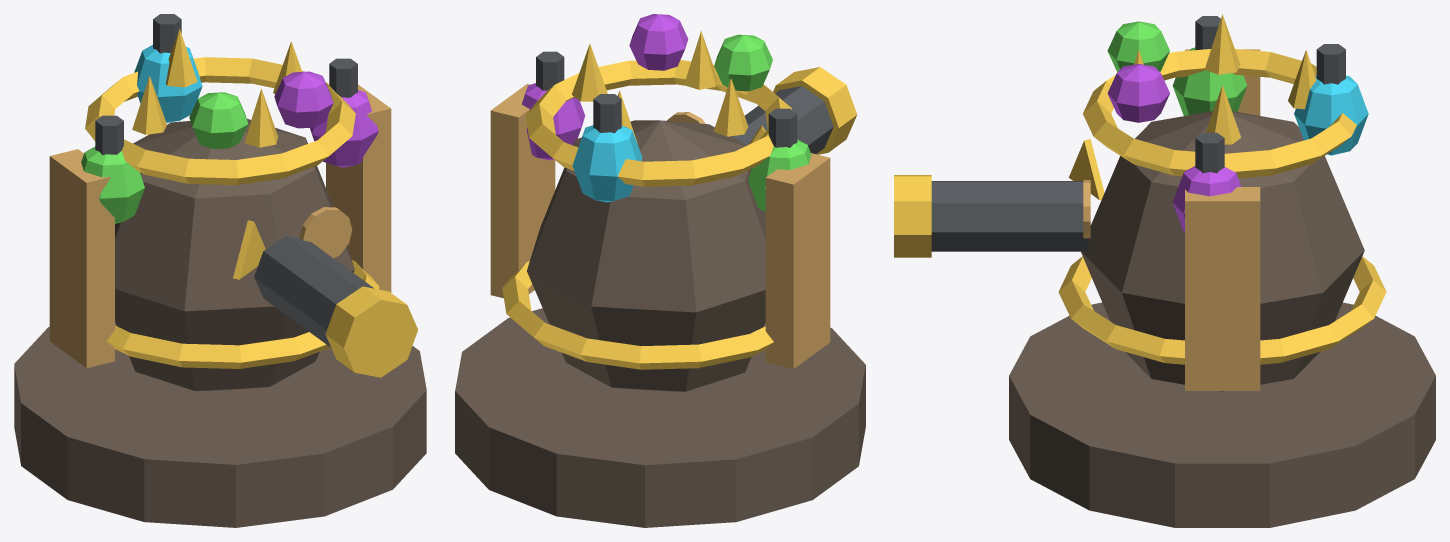
Rendered from TD_AlchemistTower_T3.fbx.
3 renders of one model, left to right at view 1: azimuth 30°, elevation 25°; view 2: azimuth 150°, elevation 25°; view 3: azimuth 270°, elevation 25°, orthographic. The views are drawn at different scales.
Visible parts, largest first — view 1: TD_AlchemistTower_T3_Base, TD_AlchemistTower_T3_MasterReactor, TD_AlchemistTower_T3_BrassSideFrame_Left, TD_AlchemistTower_T3_GoldTopCrownRing, TD_AlchemistTower_T3_BrassSideFrame_Right, TD_AlchemistTower_T3_Nozzle, TD_AlchemistTower_T3_Nozzle_GoldTip, TD_AlchemistTower_T3_GoldLowerFrame, TD_AlchemistTower_T3_Potion_Green_01_Body, TD_AlchemistTower_T3_Potion_Purple_TopOrb, TD_AlchemistTower_T3_Potion_Green_TopOrb, TD_AlchemistTower_T3_Potion_Blue_01_Body (+10 smaller); view 2: TD_AlchemistTower_T3_Base, TD_AlchemistTower_T3_MasterReactor, TD_AlchemistTower_T3_BrassSideFrame_Left, TD_AlchemistTower_T3_GoldTopCrownRing, TD_AlchemistTower_T3_BrassSideFrame_Right, TD_AlchemistTower_T3_GoldLowerFrame, TD_AlchemistTower_T3_Potion_Blue_01_Body, TD_AlchemistTower_T3_Nozzle, TD_AlchemistTower_T3_Nozzle_GoldTip, TD_AlchemistTower_T3_Potion_Purple_TopOrb, TD_AlchemistTower_T3_Potion_Green_TopOrb, TD_AlchemistTower_T3_Potion_Purple_01_Body (+7 smaller); view 3: TD_AlchemistTower_T3_Base, TD_AlchemistTower_T3_MasterReactor, TD_AlchemistTower_T3_BrassSideFrame_Right, TD_AlchemistTower_T3_Nozzle, TD_AlchemistTower_T3_GoldTopCrownRing, TD_AlchemistTower_T3_GoldLowerFrame, TD_AlchemistTower_T3_Potion_Blue_01_Body, TD_AlchemistTower_T3_Nozzle_GoldTip, TD_AlchemistTower_T3_Potion_Purple_TopOrb, TD_AlchemistTower_T3_Potion_Green_01_Body, TD_AlchemistTower_T3_Potion_Green_TopOrb, TD_AlchemistTower_T3_Potion_Purple_01_Body (+8 smaller).
Part boxes in pixels (bbox=[...]): TD_AlchemistTower_T3_Base: bbox=[14, 322, 426, 527]; TD_AlchemistTower_T3_MasterReactor: bbox=[115, 118, 354, 390]; TD_AlchemistTower_T3_BrassSideFrame_Left: bbox=[49, 149, 114, 368]; TD_AlchemistTower_T3_GoldTopCrownRing: bbox=[85, 57, 355, 185]; TD_AlchemistTower_T3_BrassSideFrame_Right: bbox=[326, 84, 391, 292]; TD_AlchemistTower_T3_Nozzle: bbox=[254, 236, 374, 347]; TD_AlchemistTower_T3_Nozzle_GoldTip: bbox=[325, 286, 417, 377]; TD_AlchemistTower_T3_GoldLowerFrame: bbox=[106, 260, 379, 368]; TD_AlchemistTower_T3_Potion_Green_01_Body: bbox=[81, 146, 144, 223]; TD_AlchemistTower_T3_Potion_Purple_TopOrb: bbox=[274, 71, 333, 128]; TD_AlchemistTower_T3_Potion_Green_TopOrb: bbox=[189, 92, 248, 149]; TD_AlchemistTower_T3_Potion_Blue_01_Body: bbox=[134, 45, 202, 122]; TD_AlchemistTower_T3_Base: bbox=[455, 308, 865, 527]; TD_AlchemistTower_T3_MasterReactor: bbox=[527, 120, 765, 391]; TD_AlchemistTower_T3_BrassSideFrame_Left: bbox=[765, 153, 830, 368]; TD_AlchemistTower_T3_GoldTopCrownRing: bbox=[525, 60, 791, 186]; TD_AlchemistTower_T3_BrassSideFrame_Right: bbox=[490, 84, 555, 298]; TD_AlchemistTower_T3_GoldLowerFrame: bbox=[502, 261, 773, 369]; TD_AlchemistTower_T3_Potion_Blue_01_Body: bbox=[572, 125, 642, 202]; TD_AlchemistTower_T3_Nozzle: bbox=[732, 86, 833, 153]; TD_AlchemistTower_T3_Nozzle_GoldTip: bbox=[773, 67, 857, 154]; TD_AlchemistTower_T3_Potion_Purple_TopOrb: bbox=[629, 14, 688, 70]; TD_AlchemistTower_T3_Potion_Green_TopOrb: bbox=[714, 34, 772, 91]; TD_AlchemistTower_T3_Potion_Purple_01_Body: bbox=[522, 83, 585, 160]; TD_AlchemistTower_T3_Base: bbox=[1009, 302, 1435, 527]; TD_AlchemistTower_T3_MasterReactor: bbox=[1081, 111, 1364, 391]; TD_AlchemistTower_T3_BrassSideFrame_Right: bbox=[1185, 187, 1260, 390]; TD_AlchemistTower_T3_Nozzle: bbox=[931, 181, 1088, 251]; TD_AlchemistTower_T3_GoldTopCrownRing: bbox=[1083, 49, 1356, 178]; TD_AlchemistTower_T3_GoldLowerFrame: bbox=[1058, 256, 1386, 364]; TD_AlchemistTower_T3_Potion_Blue_01_Body: bbox=[1294, 75, 1368, 155]; TD_AlchemistTower_T3_Nozzle_GoldTip: bbox=[894, 175, 931, 257]; TD_AlchemistTower_T3_Potion_Purple_TopOrb: bbox=[1107, 64, 1169, 122]; TD_AlchemistTower_T3_Potion_Green_01_Body: bbox=[1172, 47, 1247, 115]; TD_AlchemistTower_T3_Potion_Green_TopOrb: bbox=[1107, 21, 1169, 71]; TD_AlchemistTower_T3_Potion_Purple_01_Body: bbox=[1172, 166, 1241, 232].
Bounding box in the file's own units: 0.9944 × 1.05 × 1.29.
